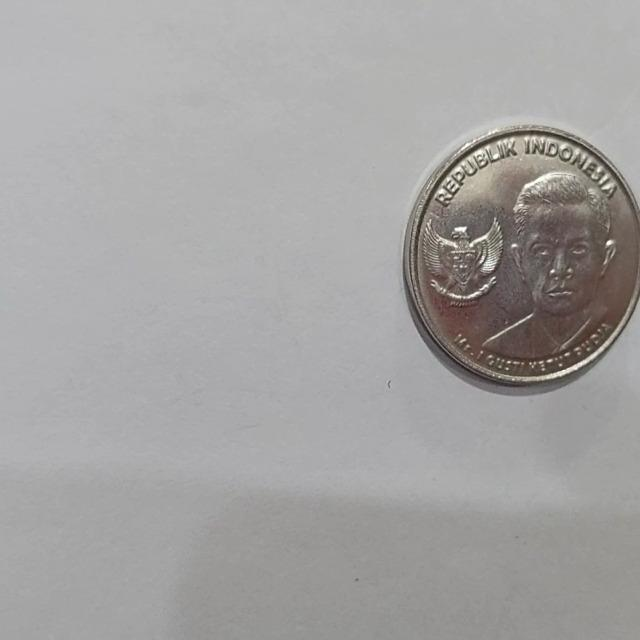Rp100: (402, 123, 640, 389), (475, 168, 620, 363)
